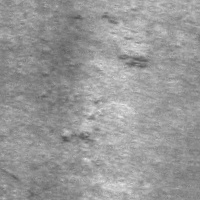rolled-in_scale: (38, 64, 103, 148), (95, 9, 154, 70)
